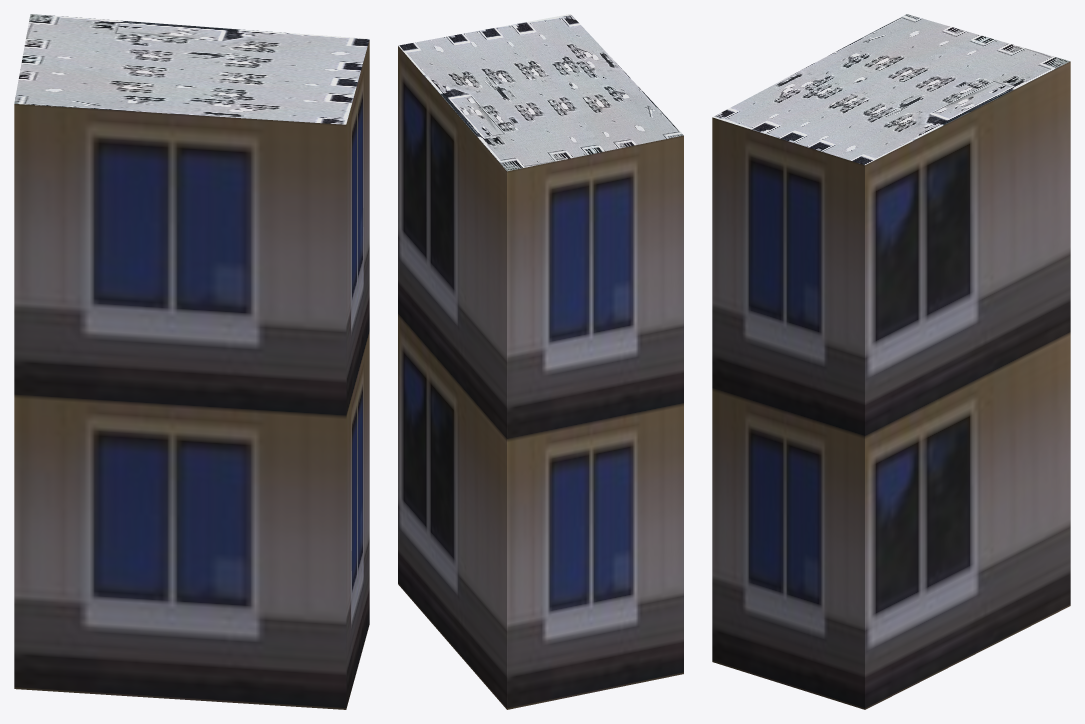
Rendered from ResTex__4933.fbx.
The picture shows the model from 3 angles, left to right: view 1: azimuth 30°, elevation 25°; view 2: azimuth 150°, elevation 25°; view 3: azimuth 270°, elevation 25°; orthographic projection. The views are drawn at different scales.
Parts seen in each view (by area): view 1: CityEngineMaterial_5_m, CityEngineMaterial_4_m; view 2: CityEngineMaterial_5_m, CityEngineMaterial_4_m; view 3: CityEngineMaterial_5_m, CityEngineMaterial_4_m.
Boxes of the visible parts, left/top/right/bottom form: CityEngineMaterial_5_m: left=14, top=40, right=369, bottom=709; CityEngineMaterial_4_m: left=14, top=14, right=369, bottom=124; CityEngineMaterial_5_m: left=398, top=46, right=683, bottom=709; CityEngineMaterial_4_m: left=398, top=14, right=683, bottom=171; CityEngineMaterial_5_m: left=712, top=61, right=1070, bottom=709; CityEngineMaterial_4_m: left=712, top=14, right=1069, bottom=164.
Size of the model in its own units: 3.57 by 6 by 3.58.
2 materials, 2 textured.
